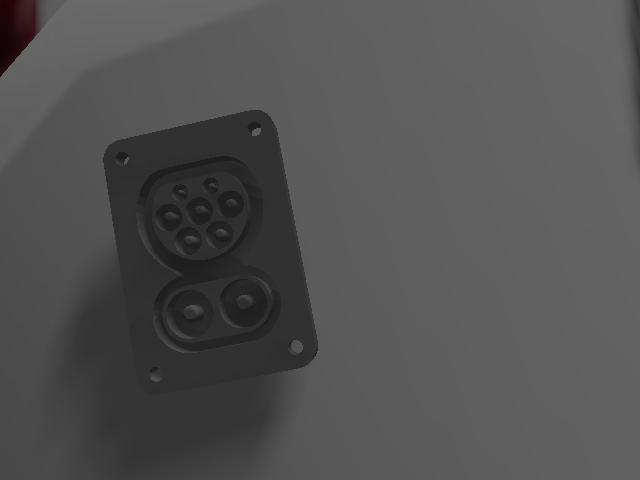EV-socket: (103, 104, 325, 401)
